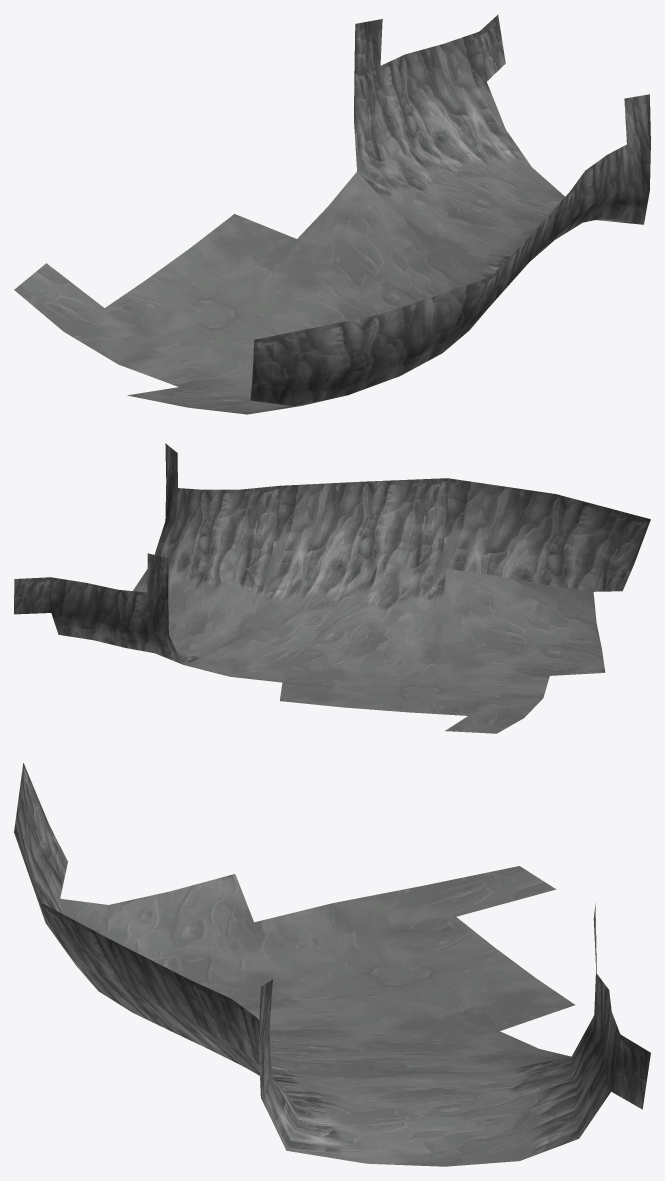
Rendered from SWORDLIGHT20_PS-AREA02_03.fbx.
3 renders of one model, top to bottom at view 1: azimuth 30°, elevation 25°; view 2: azimuth 150°, elevation 25°; view 3: azimuth 270°, elevation 25°, orthographic. The views are drawn at different scales.
Visible parts, largest first — view 1: SWORDLIGHT20_PS-AREA02_03; view 2: SWORDLIGHT20_PS-AREA02_03; view 3: SWORDLIGHT20_PS-AREA02_03.
Part boxes in pixels (x1=…): SWORDLIGHT20_PS-AREA02_03: x1=14, y1=14, x2=650, y2=414; SWORDLIGHT20_PS-AREA02_03: x1=14, y1=443, x2=650, y2=733; SWORDLIGHT20_PS-AREA02_03: x1=14, y1=763, x2=650, y2=1166.
Bounding box in the file's own units: 148470 × 46082 × 127998.
4 materials, 4 textured.
